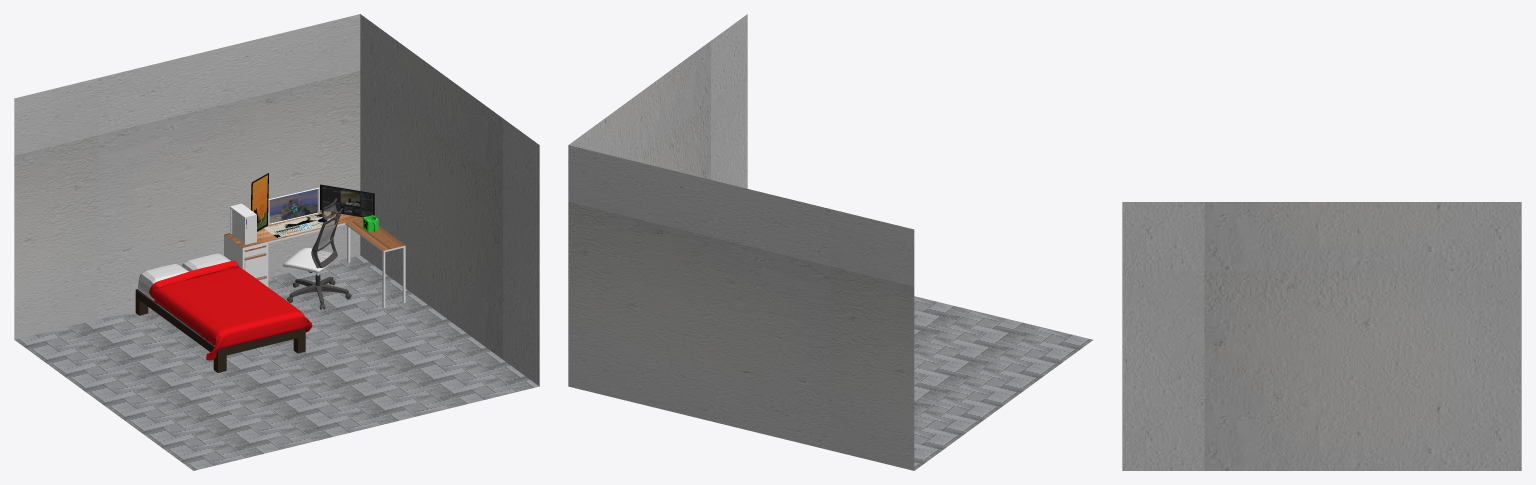
Rendered from SetUp.glb.
The picture shows the model from 3 angles, left to right: view 1: azimuth 30°, elevation 25°; view 2: azimuth 150°, elevation 25°; view 3: azimuth 270°, elevation 25°; orthographic projection. The views are drawn at different scales.
Visible parts, largest first — view 1: CasaEstructura, Sobrecama, Escritorio, BaseCama, MonitorPrincipal, Monitor3, BaseGabinete, Monitor2, almohadaR, Plane.006, Plane.012, MouseImagen (+1 smaller); view 2: CasaEstructura; view 3: CasaEstructura.
Part boxes in pixels (left/top/right/bottom): CasaEstructura: left=14, top=14, right=539, bottom=470; Sobrecama: left=149, top=260, right=312, bottom=360; Escritorio: left=224, top=210, right=405, bottom=307; BaseCama: left=135, top=289, right=305, bottom=372; MonitorPrincipal: left=268, top=187, right=319, bottom=224; Monitor3: left=320, top=184, right=374, bottom=217; BaseGabinete: left=230, top=203, right=256, bottom=244; Monitor2: left=250, top=173, right=268, bottom=231; almohadaR: left=138, top=264, right=188, bottom=300; Plane.006: left=282, top=247, right=337, bottom=273; Plane.012: left=289, top=277, right=348, bottom=304; MouseImagen: left=264, top=213, right=336, bottom=238; CasaEstructura: left=568, top=14, right=1092, bottom=470; CasaEstructura: left=1122, top=202, right=1521, bottom=470.
Bounding box in the file's own units: 11.03 × 7.43 × 9.89.
35 materials, 15 textured.
